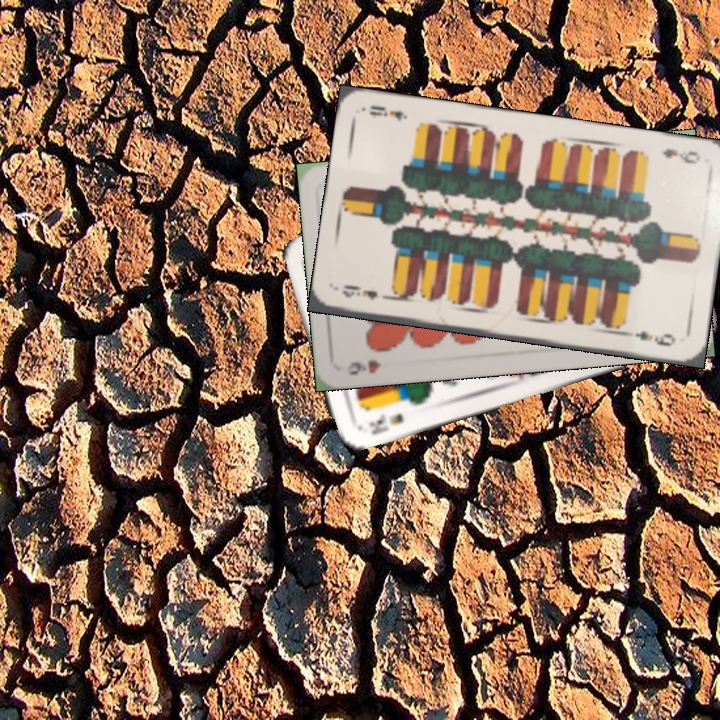E9: (338, 280, 394, 303), (658, 144, 703, 167)
EK: (365, 409, 406, 438)
H9: (344, 356, 383, 378)
